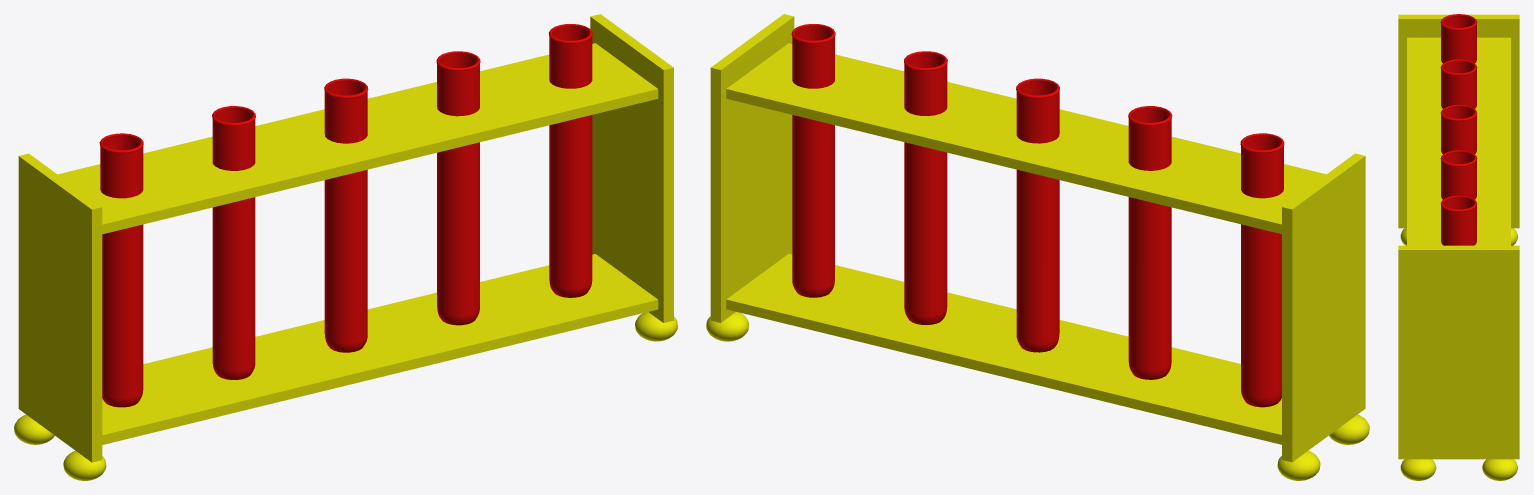
File: Essay_Tubes.fbx
The picture shows the model from 3 angles, left to right: view 1: azimuth 30°, elevation 25°; view 2: azimuth 150°, elevation 25°; view 3: azimuth 270°, elevation 25°; orthographic projection. The views are drawn at different scales.
Visible parts, largest first — view 1: Holder, EssayTube, EssayTube4, EssayTube1, EssayTube3, EssayTube2; view 2: Holder, EssayTube, EssayTube1, EssayTube3, EssayTube4, EssayTube2; view 3: Holder, EssayTube4, EssayTube, EssayTube2, EssayTube1, EssayTube3.
Boxes of the visible parts, x1=… form: Holder: x1=14, y1=14, x2=677, y2=480; EssayTube: x1=324, y1=78, x2=368, y2=352; EssayTube4: x1=548, y1=24, x2=592, y2=297; EssayTube1: x1=212, y1=106, x2=255, y2=379; EssayTube3: x1=436, y1=51, x2=480, y2=325; EssayTube2: x1=99, y1=133, x2=143, y2=407; Holder: x1=706, y1=14, x2=1369, y2=480; EssayTube: x1=1016, y1=78, x2=1059, y2=352; EssayTube1: x1=1128, y1=106, x2=1172, y2=379; EssayTube3: x1=904, y1=51, x2=947, y2=324; EssayTube4: x1=791, y1=24, x2=835, y2=297; EssayTube2: x1=1240, y1=133, x2=1284, y2=407; Holder: x1=1398, y1=14, x2=1519, y2=480; EssayTube4: x1=1440, y1=195, x2=1477, y2=245; EssayTube: x1=1440, y1=104, x2=1477, y2=153; EssayTube2: x1=1440, y1=14, x2=1477, y2=63; EssayTube1: x1=1440, y1=59, x2=1477, y2=108; EssayTube3: x1=1440, y1=150, x2=1477, y2=199.
Size of the model in its own units: 32.55 by 15.42 by 6.79.
